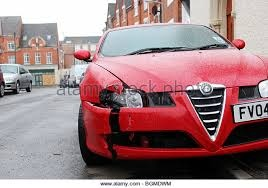Dent: (96, 82, 134, 158)
